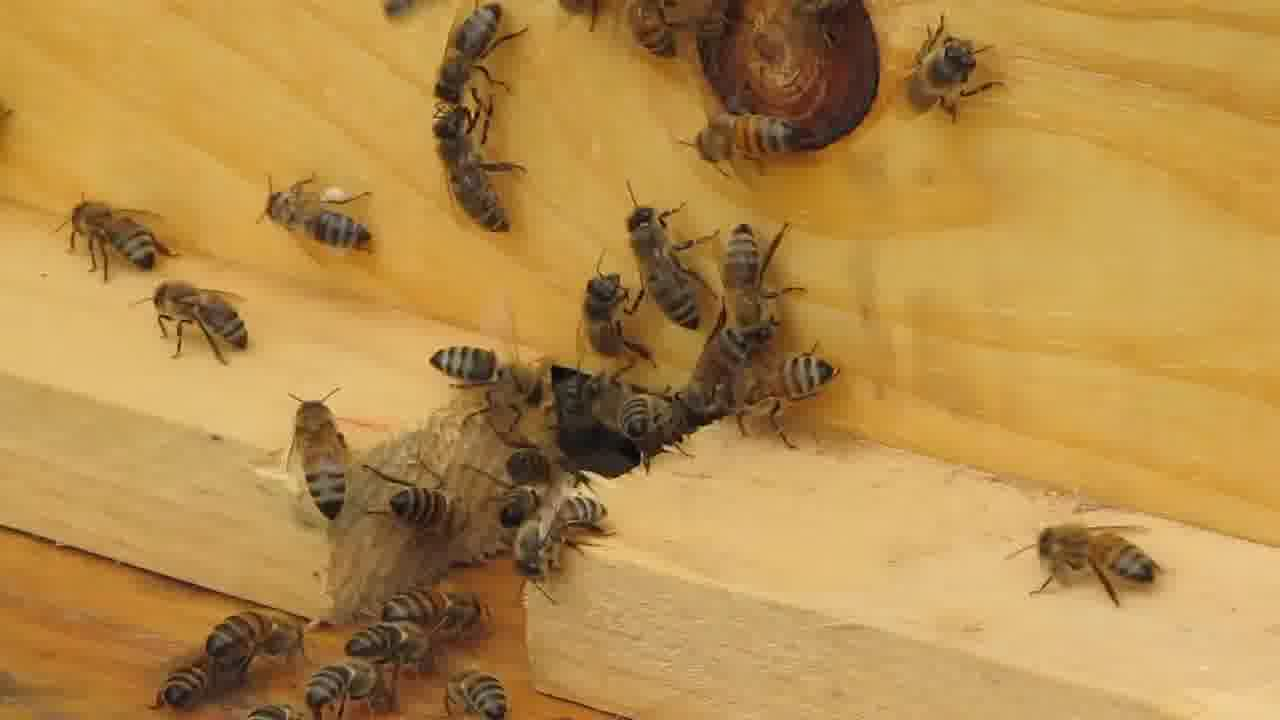pollen: (265, 166, 372, 270)
